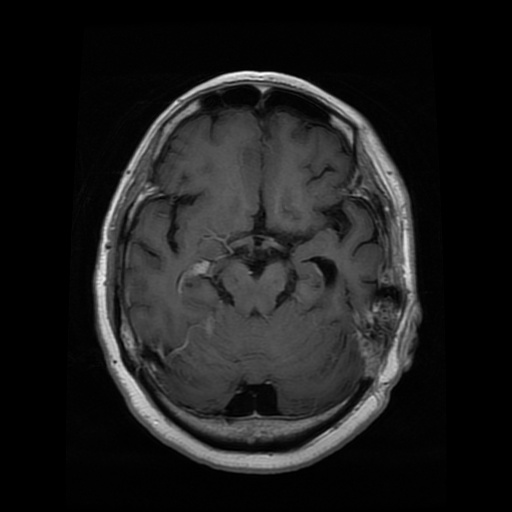glioma: (350, 285, 400, 376)
